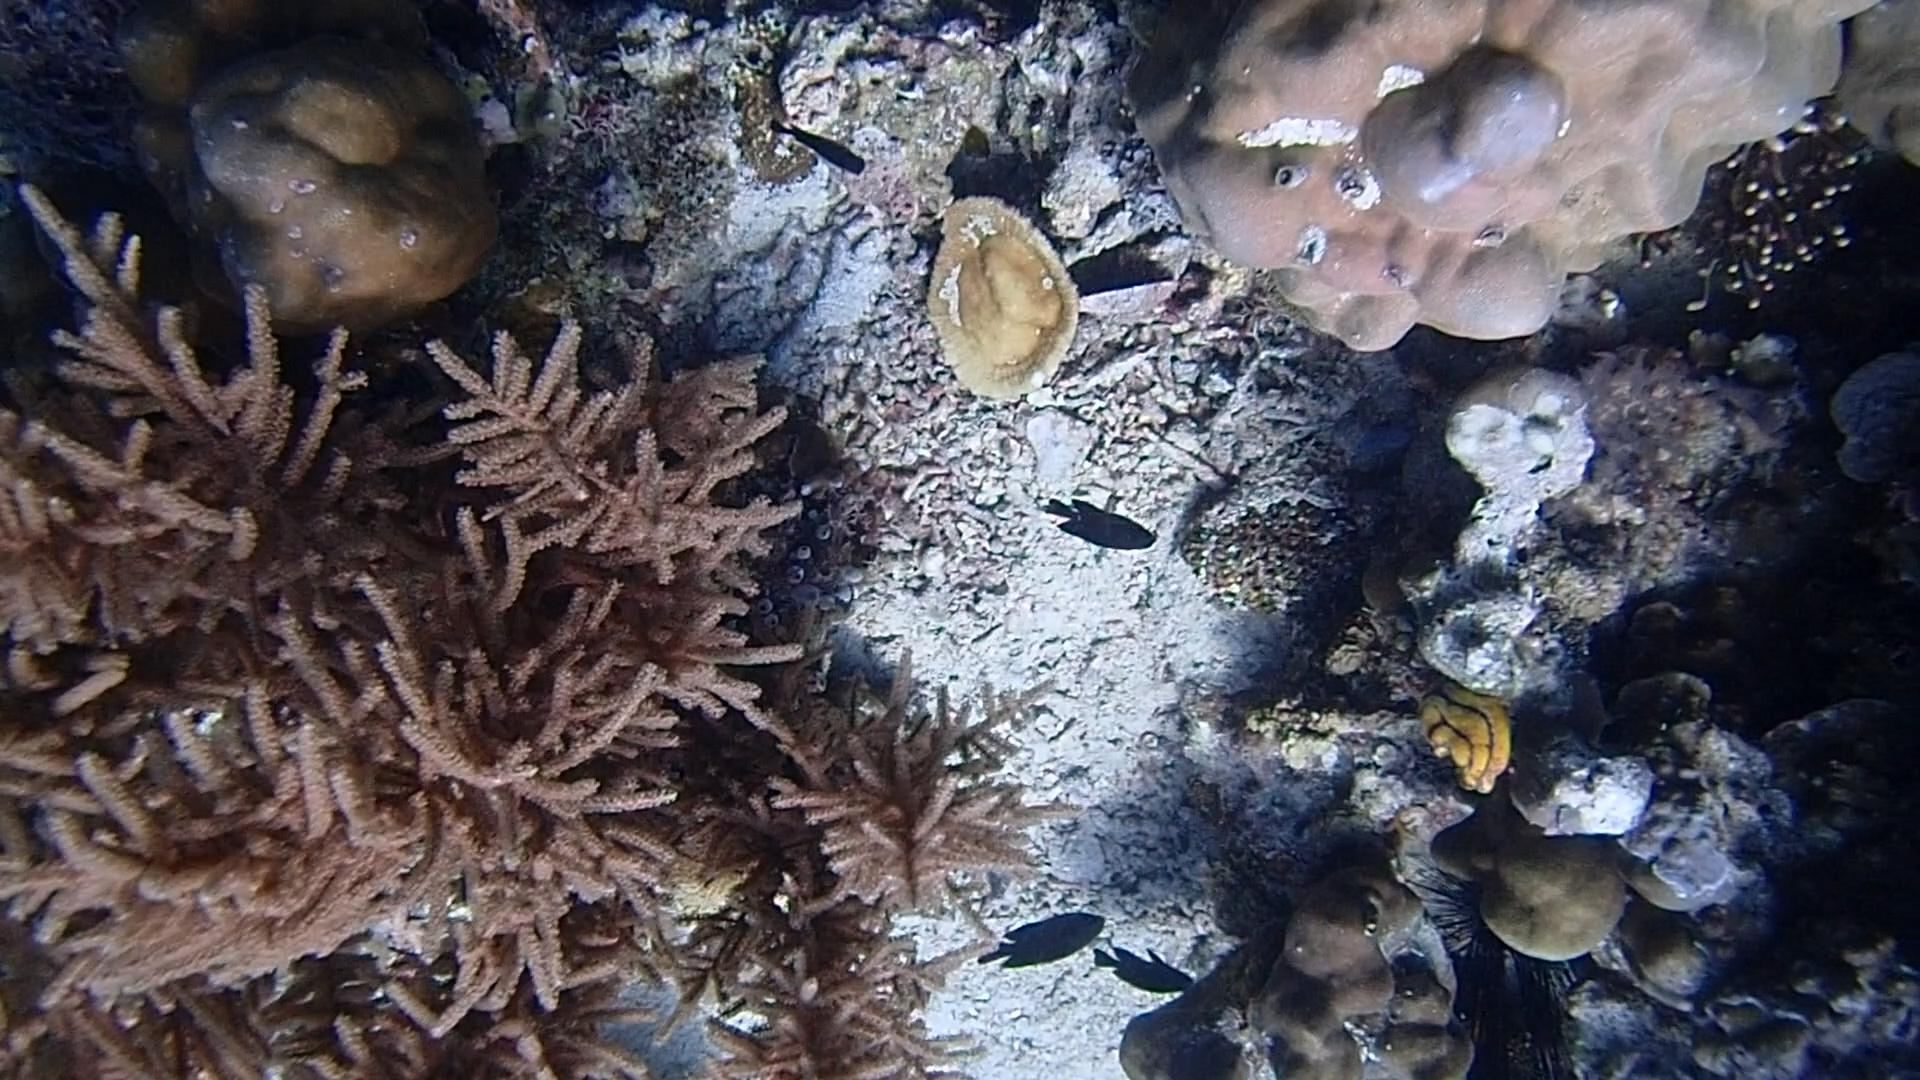Dark Fish: (1030, 471, 1175, 575), (963, 894, 1120, 988), (758, 103, 885, 185), (1077, 934, 1203, 1011)
